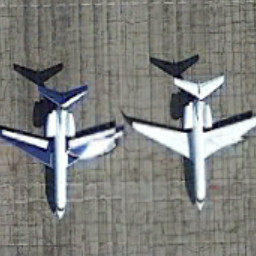Airplane: (1, 76, 128, 228), (125, 70, 256, 216)
